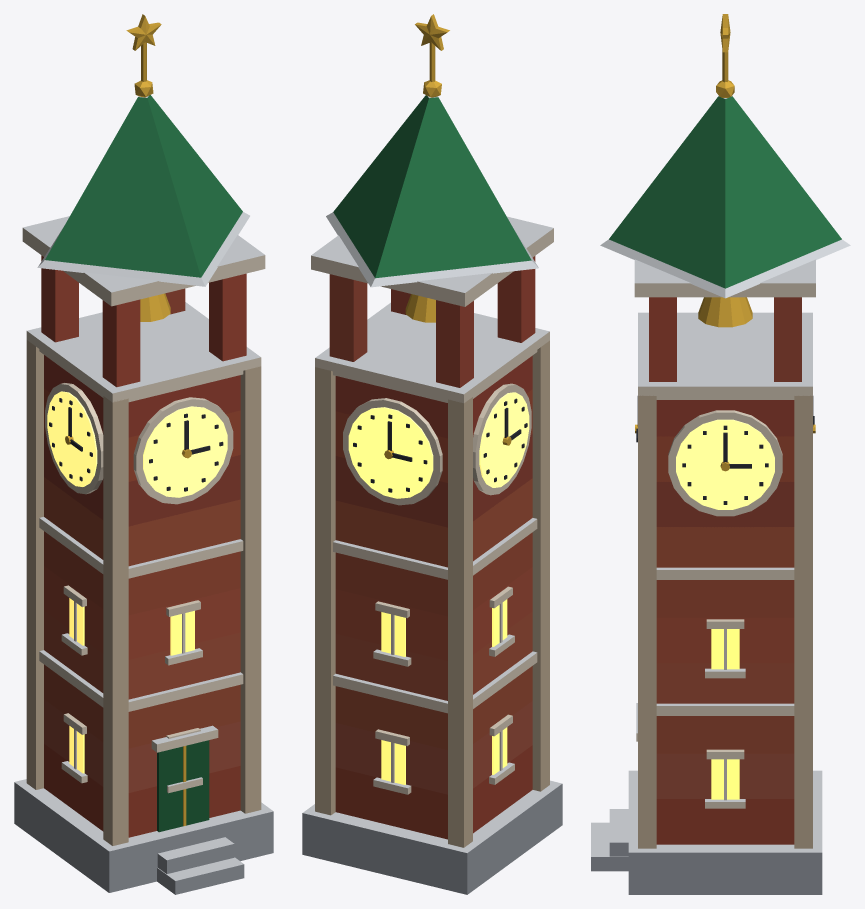
The model's file is ClockTower.glb.
The picture shows the model from 3 angles, left to right: view 1: azimuth 30°, elevation 25°; view 2: azimuth 150°, elevation 25°; view 3: azimuth 270°, elevation 25°; orthographic projection. The views are drawn at different scales.
Parts seen in each view (by area): view 1: ClockTower_Tower, ClockTower_Trim, ClockTower_Roof, ClockTower_Glow; view 2: ClockTower_Tower, ClockTower_Roof, ClockTower_Trim, ClockTower_Glow; view 3: ClockTower_Tower, ClockTower_Roof, ClockTower_Trim, ClockTower_Glow.
Part boxes in pixels (x1=…): ClockTower_Tower: x1=14, y1=355, x2=273, y2=892; ClockTower_Trim: x1=26, y1=340, x2=261, y2=894; ClockTower_Roof: x1=22, y1=14, x2=265, y2=402; ClockTower_Glow: x1=47, y1=391, x2=227, y2=773; ClockTower_Tower: x1=302, y1=355, x2=562, y2=894; ClockTower_Roof: x1=311, y1=14, x2=553, y2=403; ClockTower_Trim: x1=315, y1=340, x2=549, y2=847; ClockTower_Glow: x1=348, y1=392, x2=529, y2=784; ClockTower_Tower: x1=628, y1=400, x2=822, y2=894; ClockTower_Roof: x1=600, y1=14, x2=850, y2=395; ClockTower_Trim: x1=591, y1=395, x2=815, y2=871; ClockTower_Glow: x1=676, y1=419, x2=774, y2=799.
Bounding box in the file's own units: 16.06 × 59.3 × 16.63.
